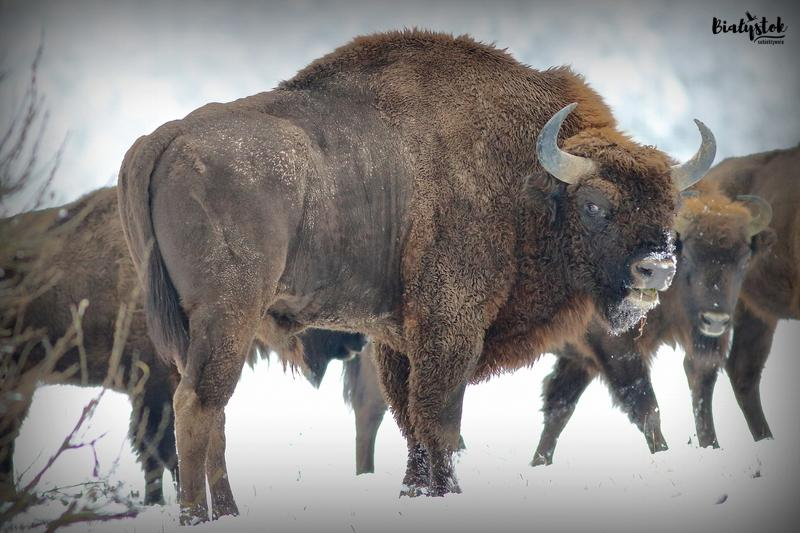zubr: (91, 4, 728, 521), (679, 188, 785, 385)
